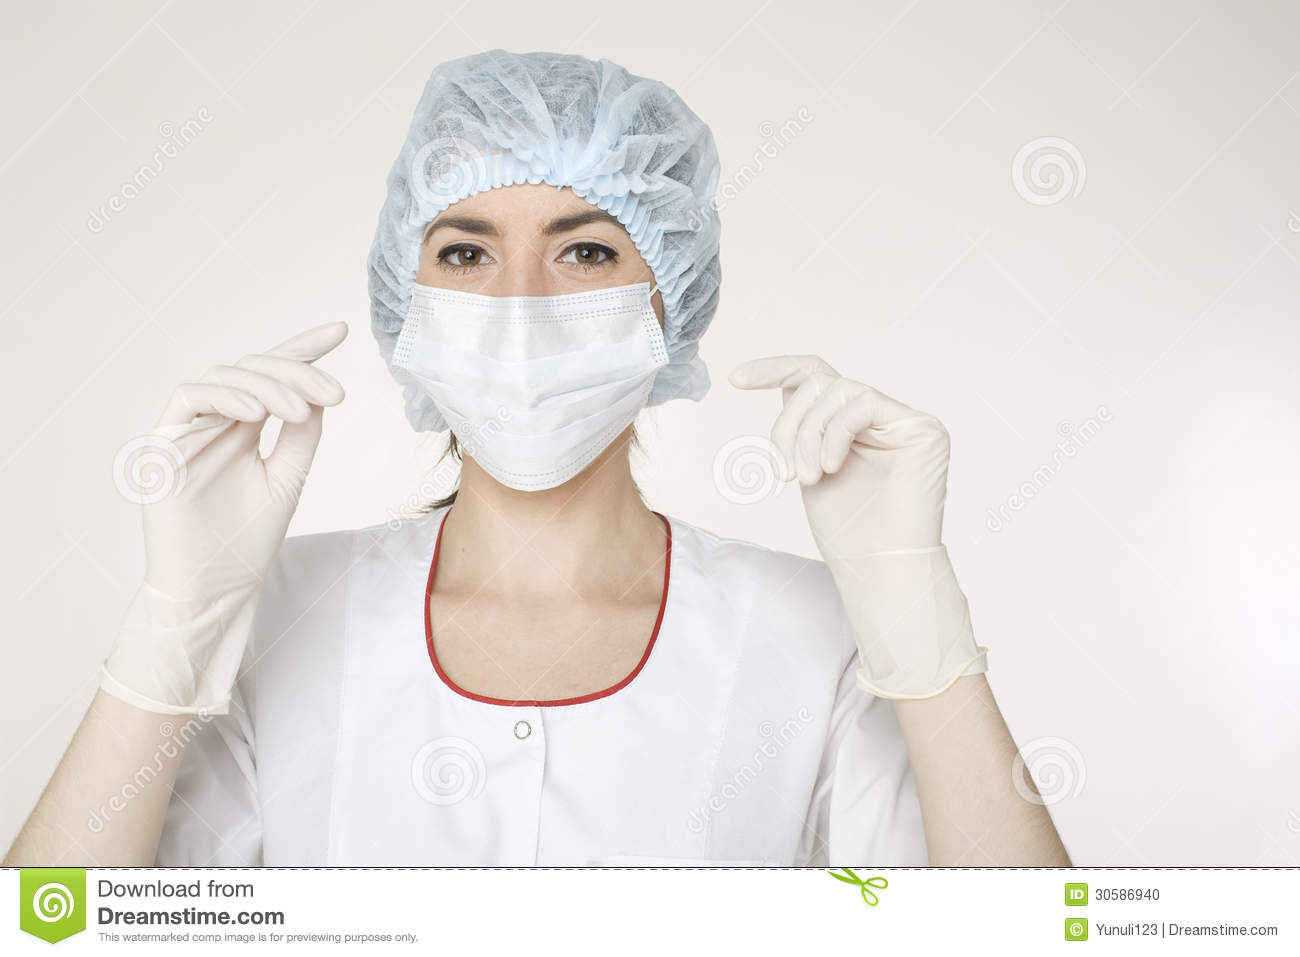mask: (394, 287, 665, 489)
